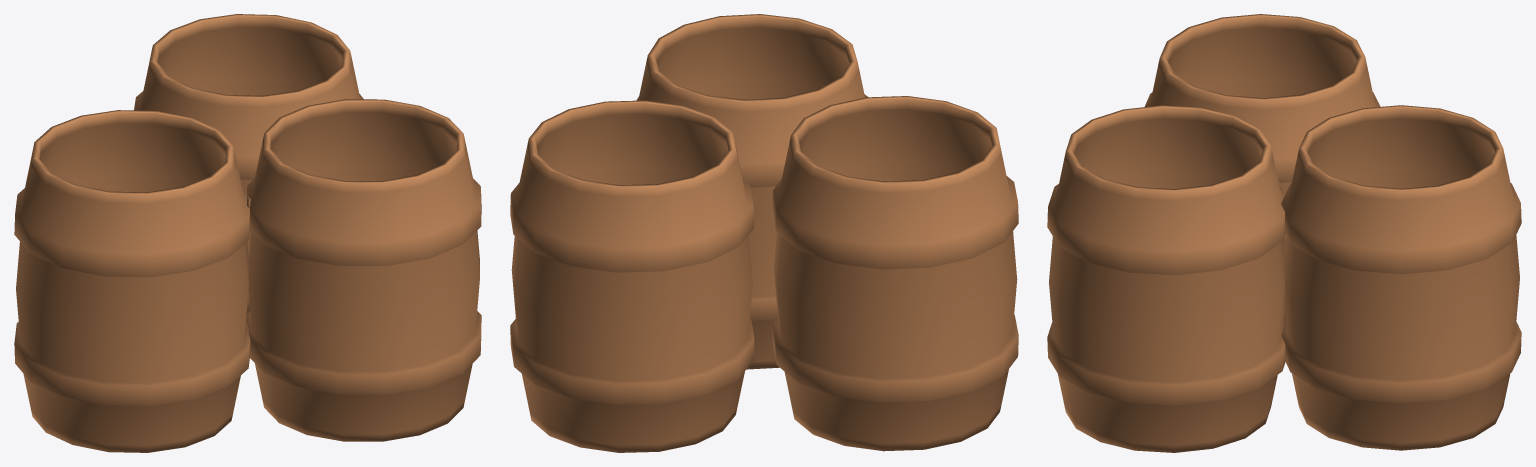
Rendered from Barrel_Vegetable_03B_Lod0.fbx.
3 renders of one model, left to right at view 1: azimuth 30°, elevation 25°; view 2: azimuth 150°, elevation 25°; view 3: azimuth 270°, elevation 25°, orthographic. The views are drawn at different scales.
Visible parts, largest first — view 1: Barrel_Vegetable_03B_Lod0; view 2: Barrel_Vegetable_03B_Lod0; view 3: Barrel_Vegetable_03B_Lod0.
Boxes of the visible parts, x1,y1,x2,y2 form: Barrel_Vegetable_03B_Lod0: [14, 14, 481, 452]; Barrel_Vegetable_03B_Lod0: [510, 14, 1018, 452]; Barrel_Vegetable_03B_Lod0: [1047, 14, 1521, 452].
Size of the model in its own units: 99.65 by 62.75 by 103.
